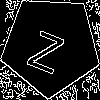Z: (26, 20, 69, 75)
